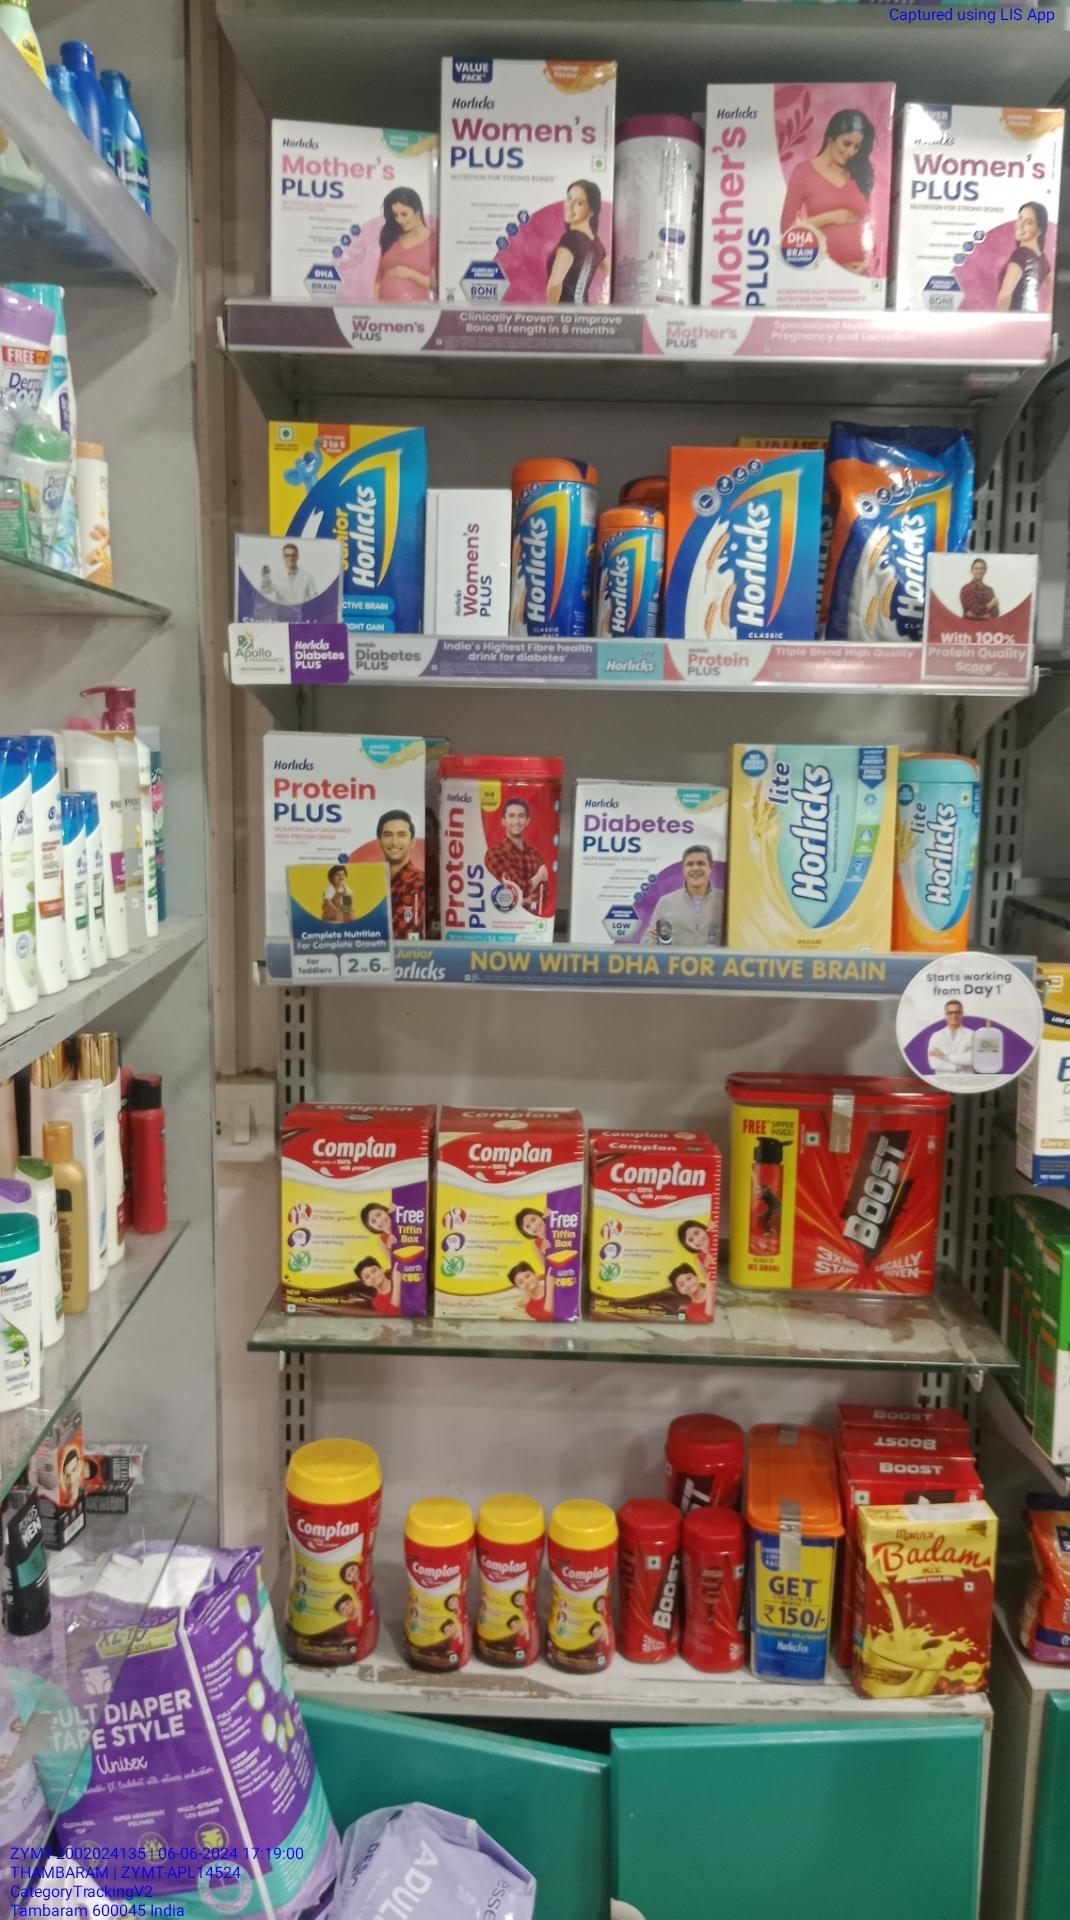COMPLAN_CHOCOLATE_200_GMS_JAR: (549, 1521, 611, 1676), (402, 1522, 464, 1671), (476, 1515, 534, 1668)
COMPLAN_CHOCOLATE_200_GMS_PACK: (594, 1152, 712, 1322)
COMPLAN_CHOCOLATE_500_GMS_JAR: (286, 1469, 373, 1667)
COMPLAN_CHOCOLATE_500_GMS_PACK: (279, 1123, 419, 1315)
COMPLAN_KESAR_BADAM_500_GMS_PACK: (439, 1129, 580, 1322)
HORLICKS_LITE_REGULAR_MALT_500_GM_JAR: (897, 754, 978, 954)
HORLICK_CLASSIC_MALT_200_G_JAR: (594, 506, 647, 636)
HORLICK_CLASSIC_MALT_500_G_JAR: (513, 457, 576, 636)
HORLICK_CLASSIC_MALT_500_G_PACK: (668, 444, 818, 640)
HORLICK_CLASSIC_MALT_750_G_POUCH: (835, 424, 951, 631)
